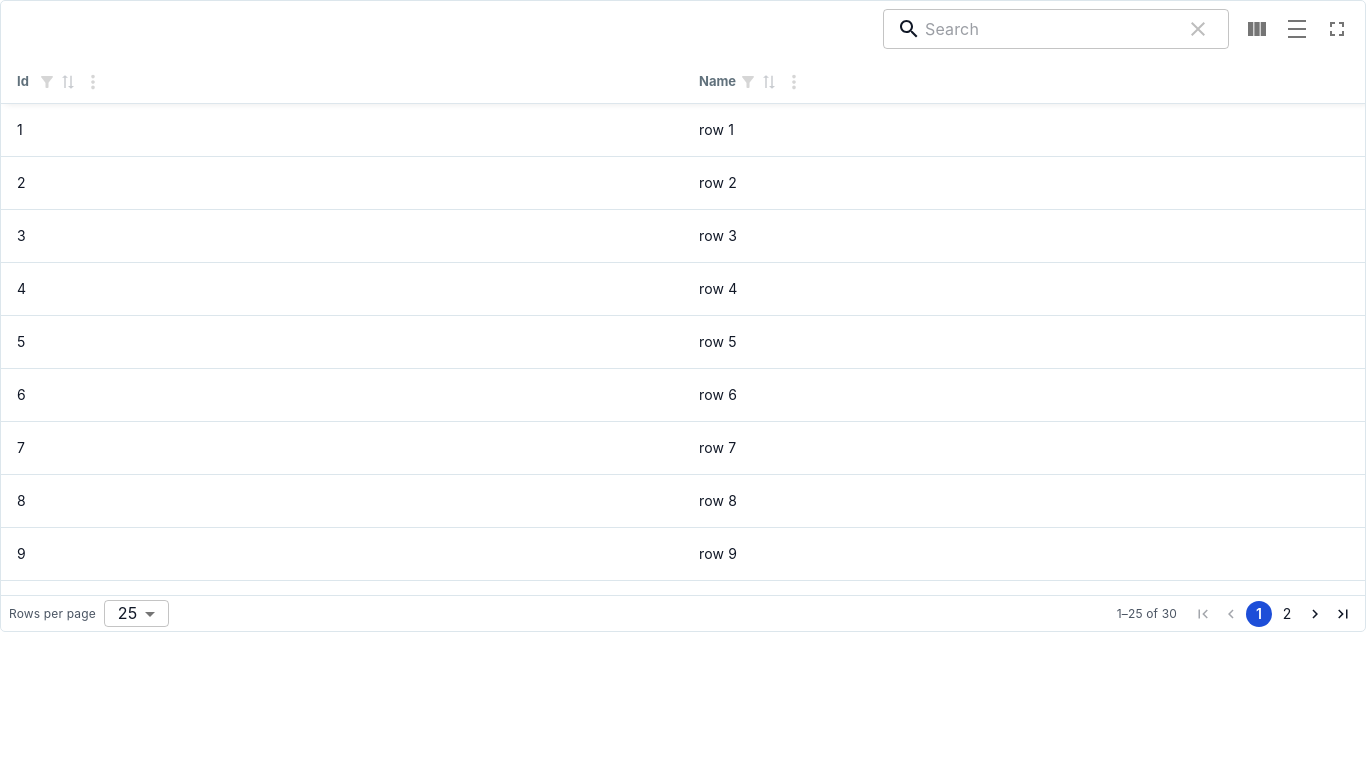
Test case: the grid footer › moves the range when the page changes
This screenshot has width=1366, height=768.
Expected: the text "1–25 of 30" is shown, [1117,604,1177,623]
Click the button named "go to page 2" at (1287, 614), box [1274,601,1300,627]
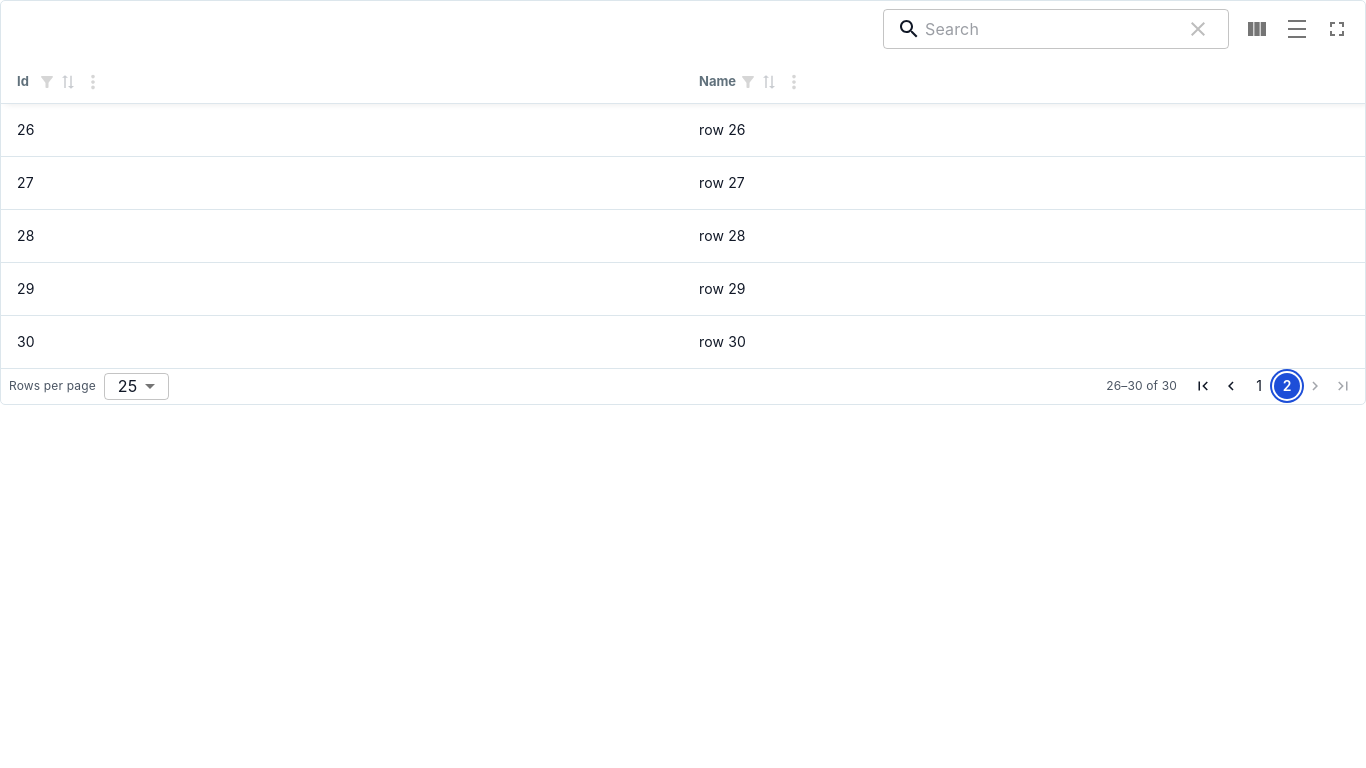
Result: the text "26–30 of 30" is shown at [1106,376,1177,396]
